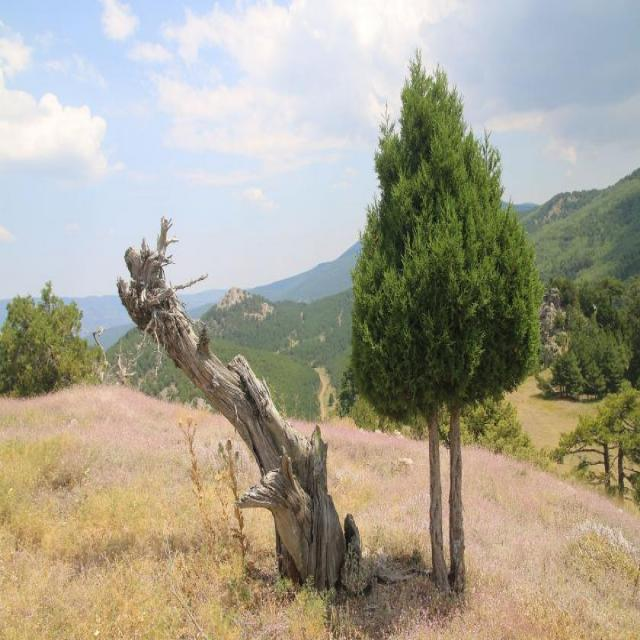tree: (352, 31, 524, 582), (0, 280, 96, 392), (576, 388, 636, 488), (548, 348, 584, 396), (602, 274, 630, 330), (602, 335, 628, 389), (584, 356, 608, 392), (581, 282, 599, 318)
